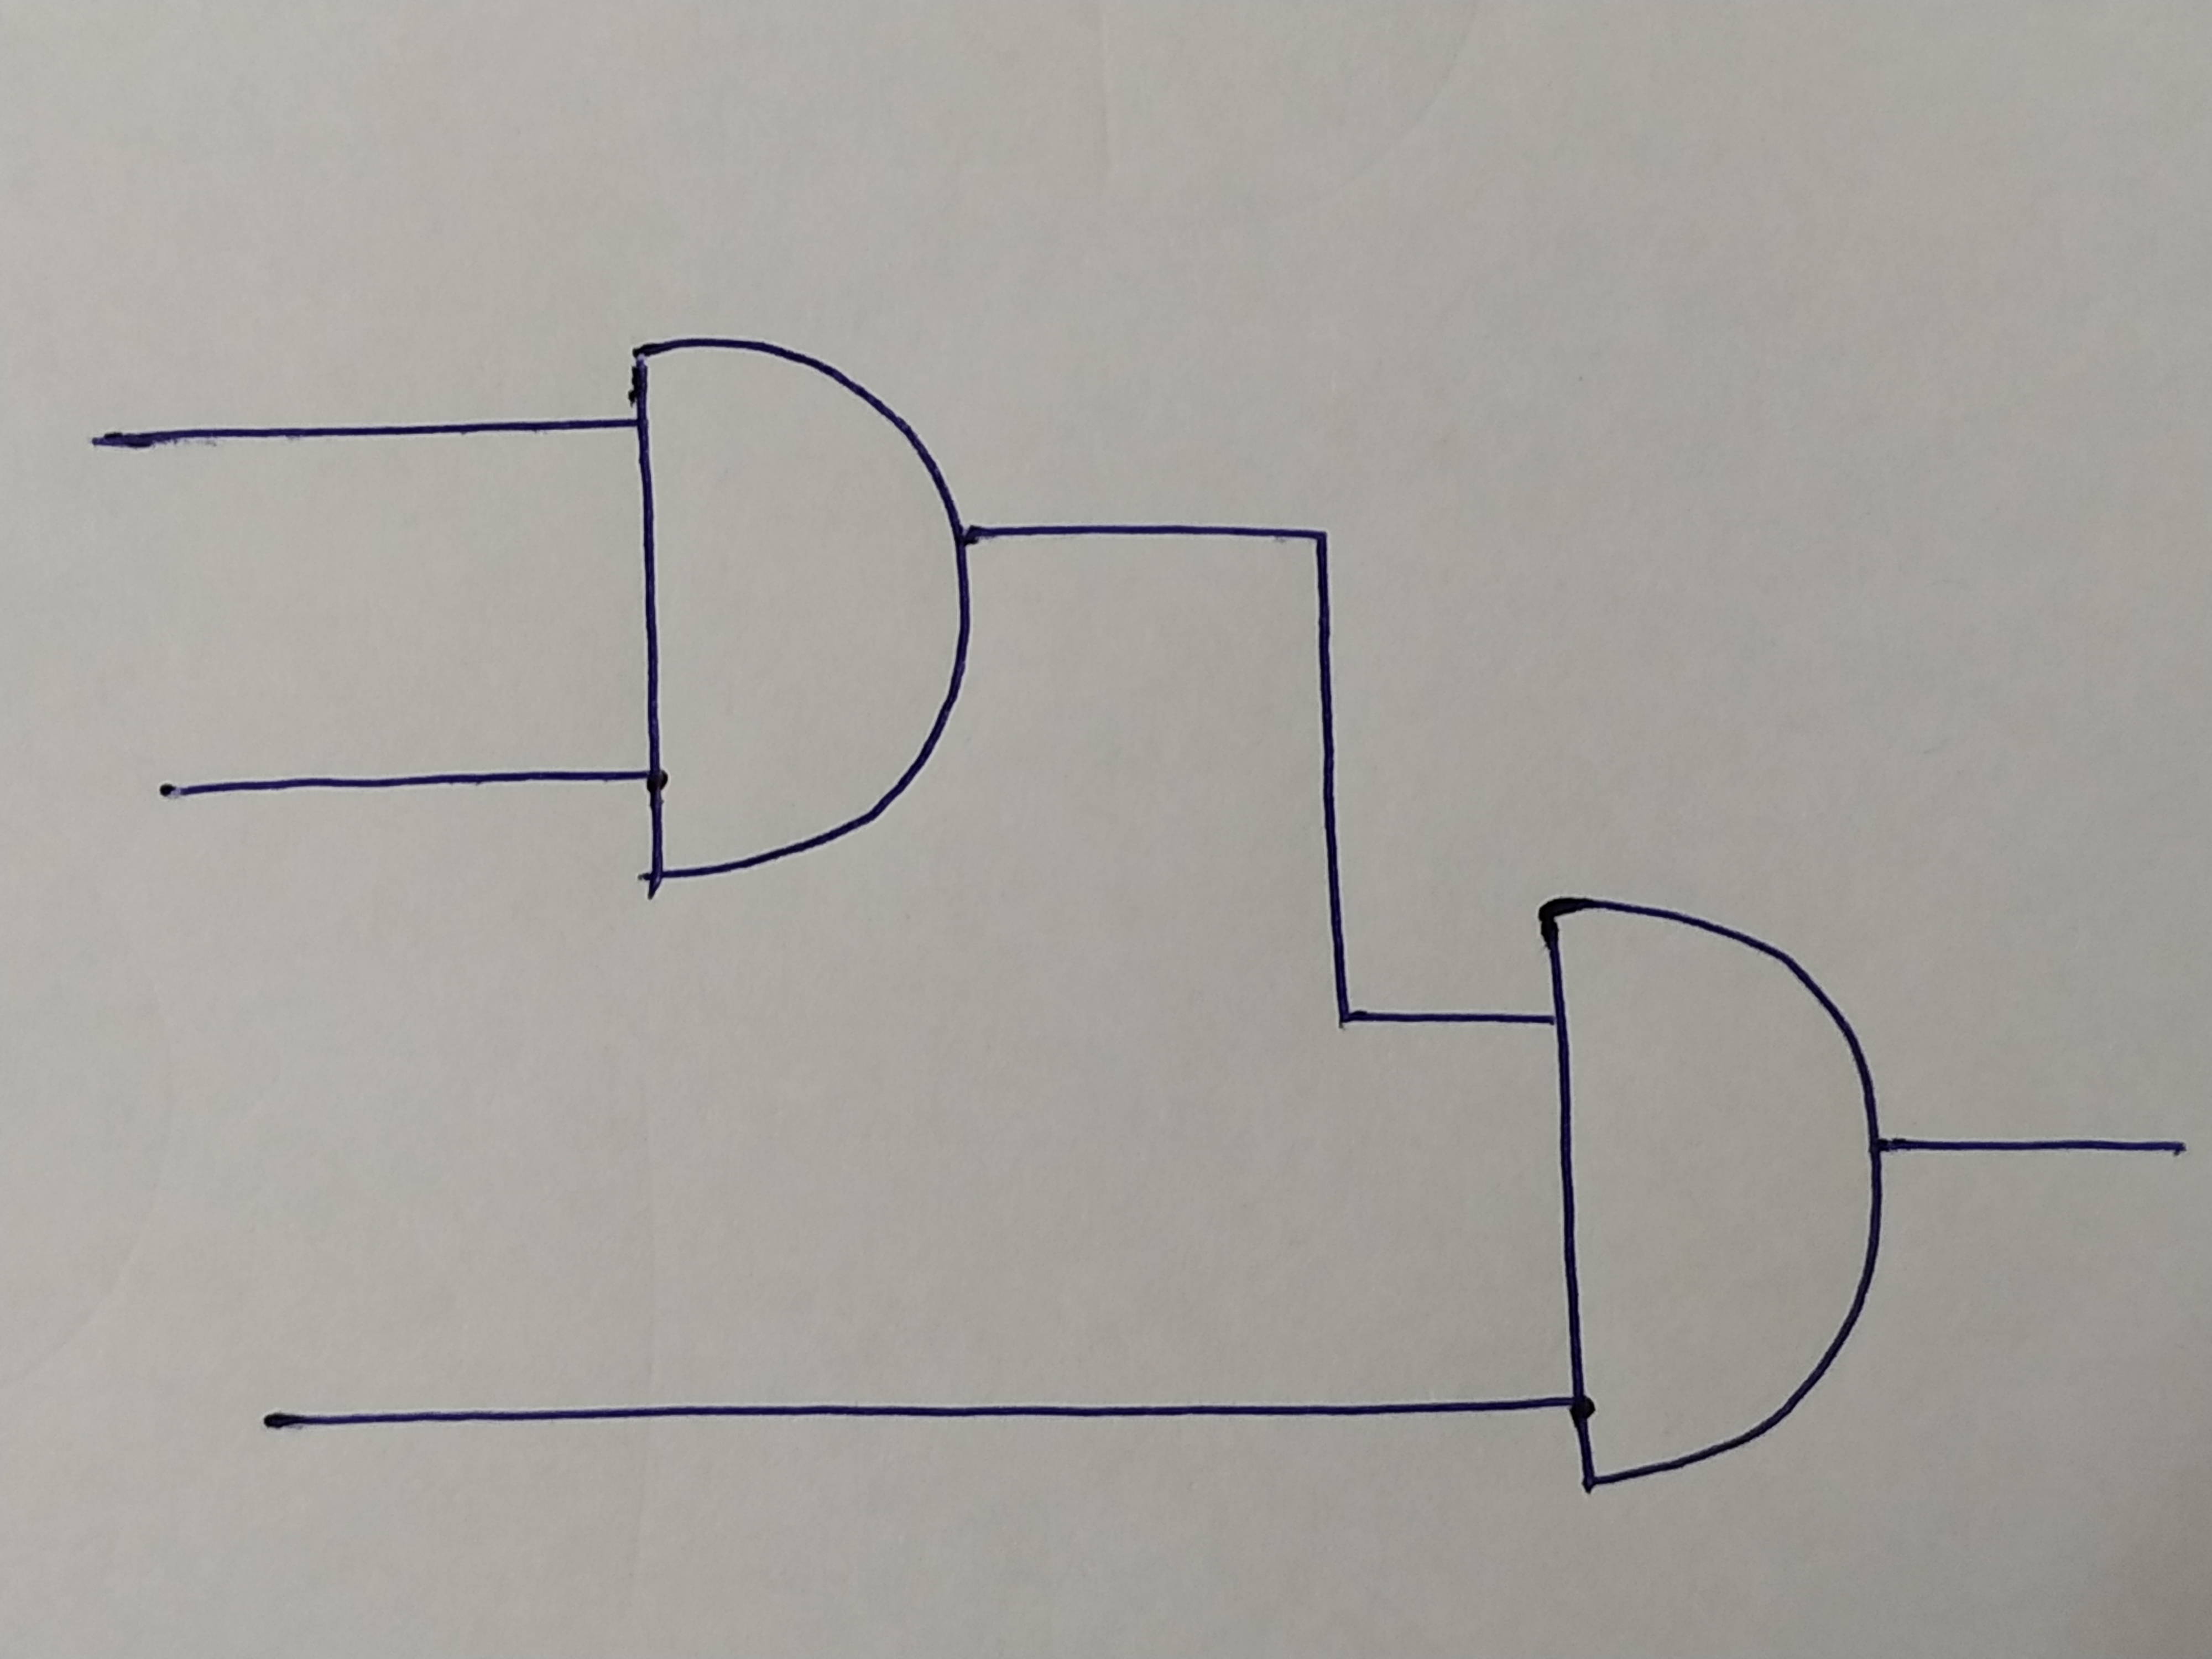and: (1543, 894, 1881, 1481), (629, 342, 963, 884)
